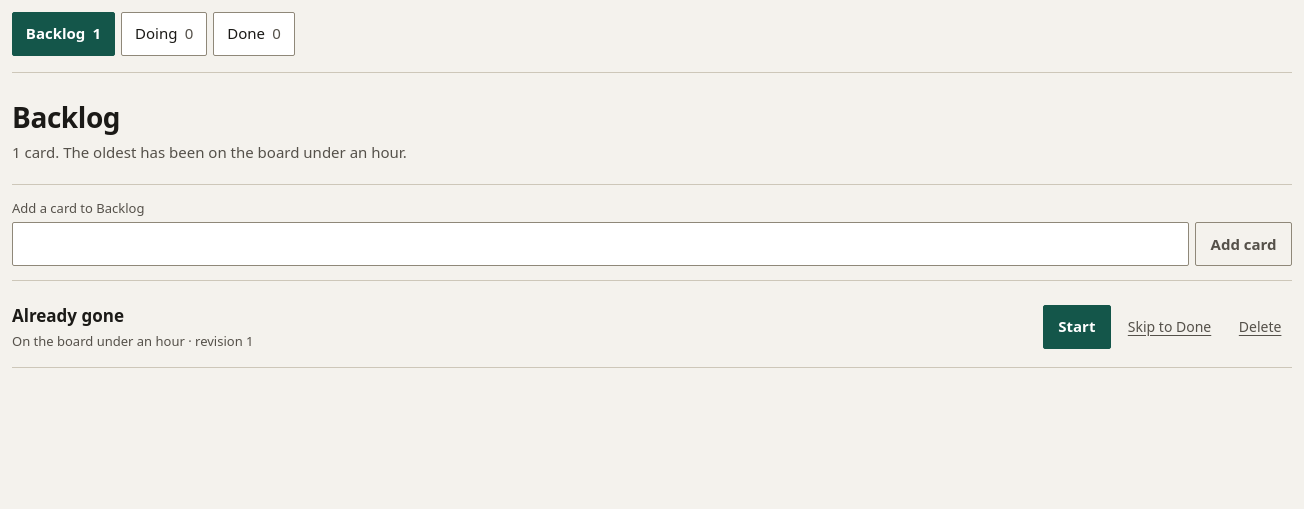
Scenario: Board › explains a delete of a card the API no longer has without repainting the board
Expected: the text "Already gone" is shown, [12,304,124,327]
What coordinates should you click on to do the following:
click the button named "Delete \"Already gone\""
I would click on:
 (1260, 327)
Its box is [1228,305,1292,349].
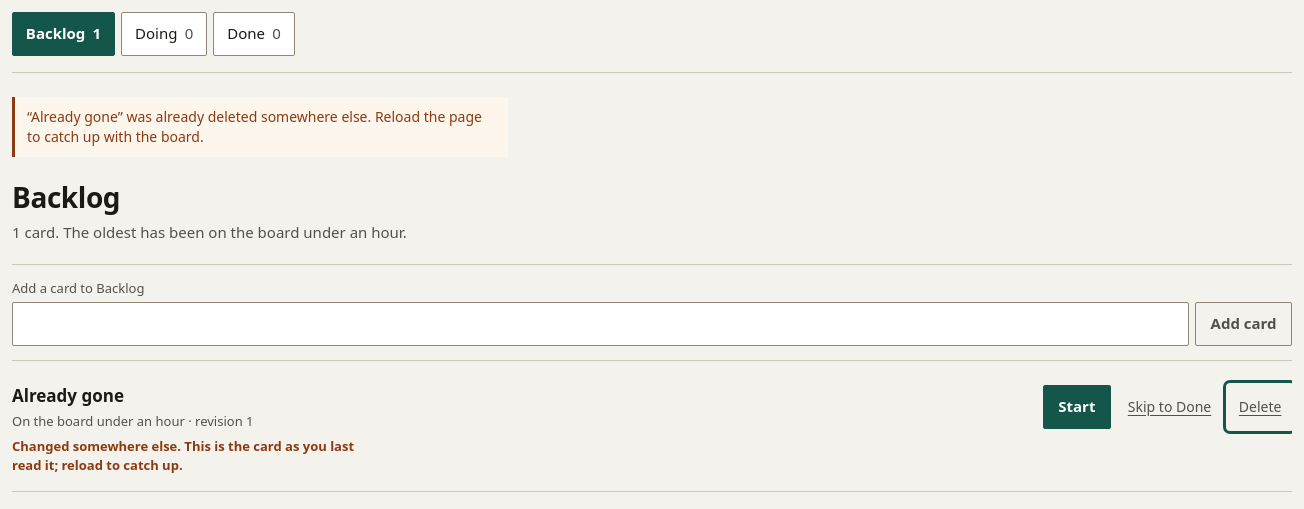
Expected: the message shows "Already gone", [27,107,482,146]
Expected: the message shows "Reload", [27,107,482,146]
Expected: the text "Changed somewhere else" is shown, [12,437,354,474]
